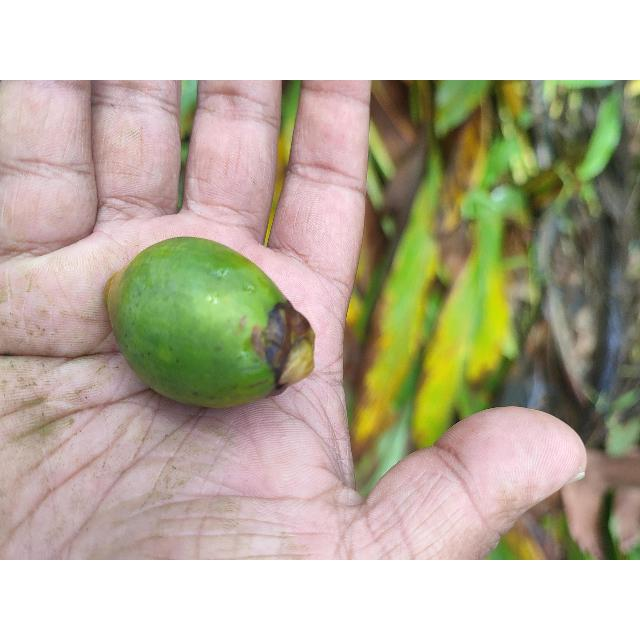damaged: (101, 235, 317, 412)
